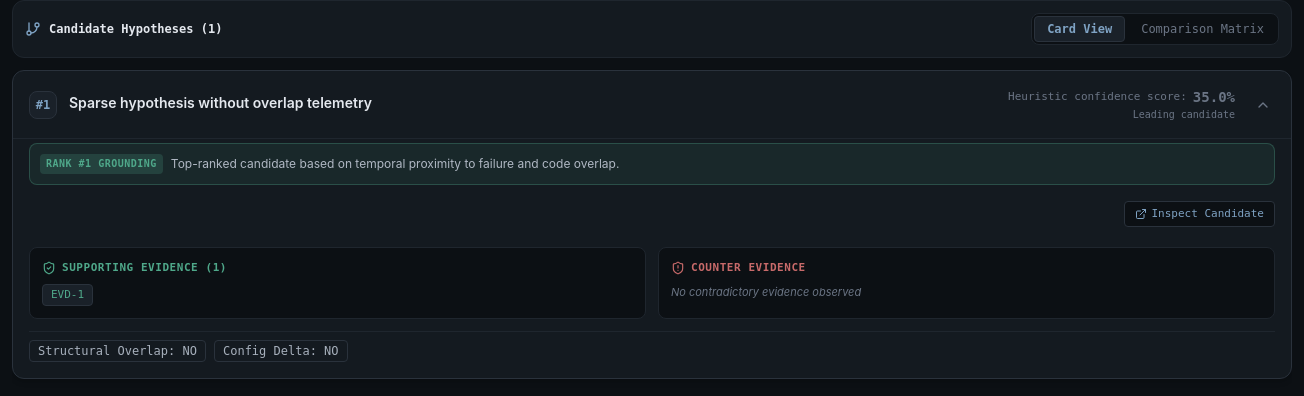
Test: Phase 2.54.5 — Evidence Score Integrity & Semantic Correction › Requirement 6: displays honest em-dash (—) for missing factors and never fabricates zeroes
# Switch to Comparison Matrix
Click the button "Comparison Matrix": click(1203, 29) [1129,17,1276,41]
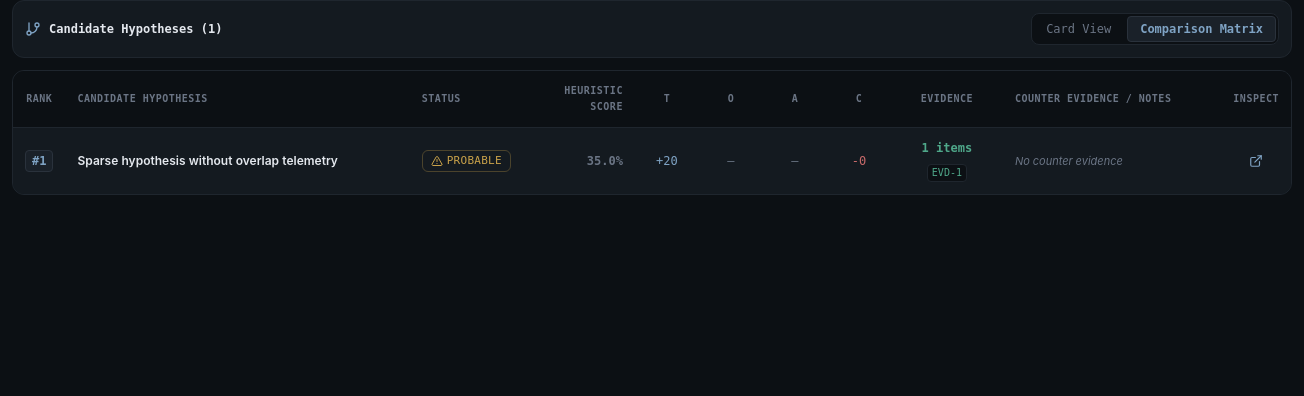
Expected: the text "+20" is shown, [635,128,699,194]
Expected: the text "-0" is shown, [827,128,891,194]
